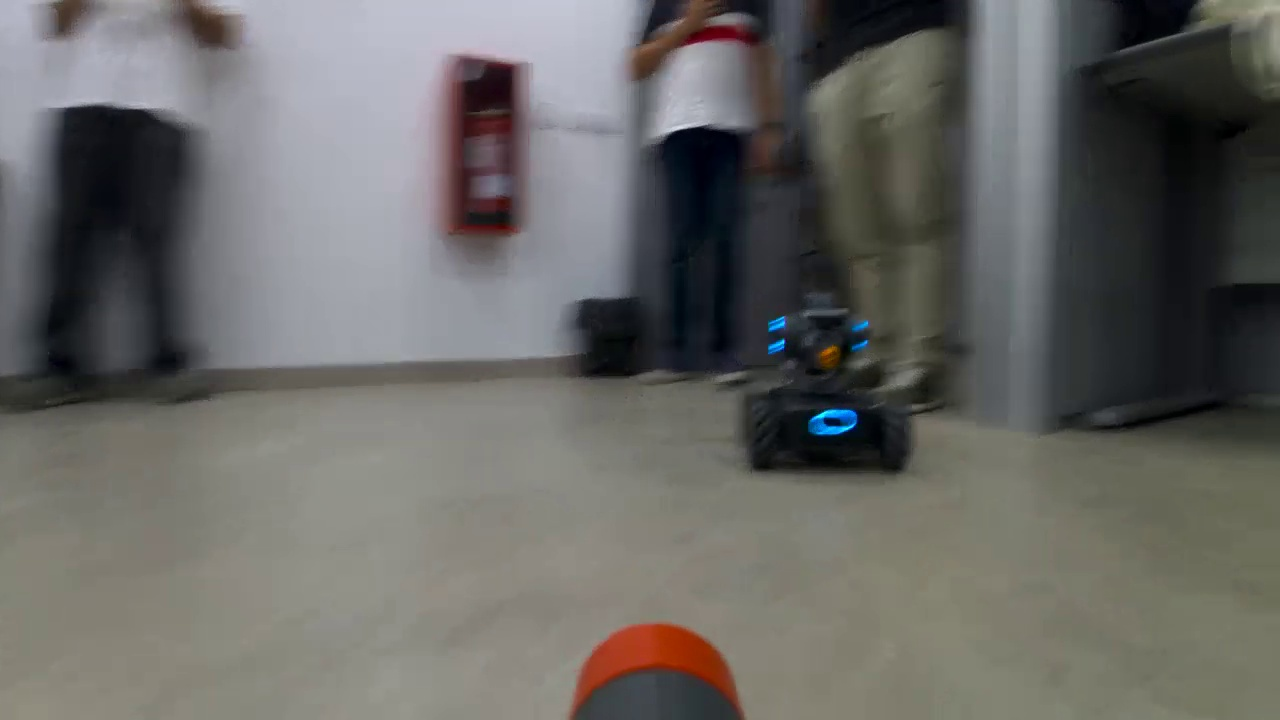robot: (737, 292, 919, 476)
